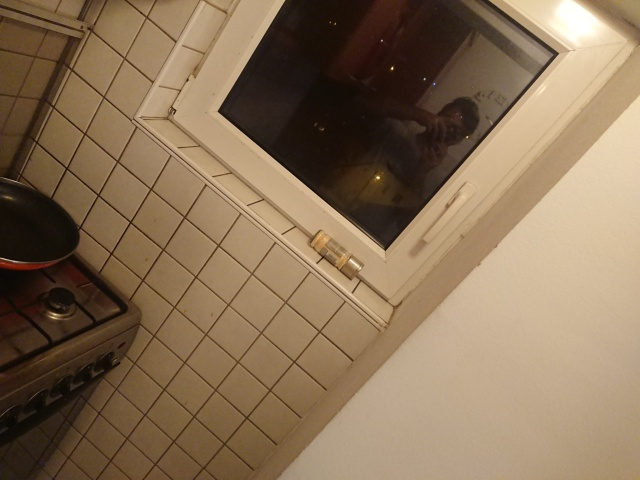Kotanyi Garlic Granules 70g: (308, 228, 366, 282)
